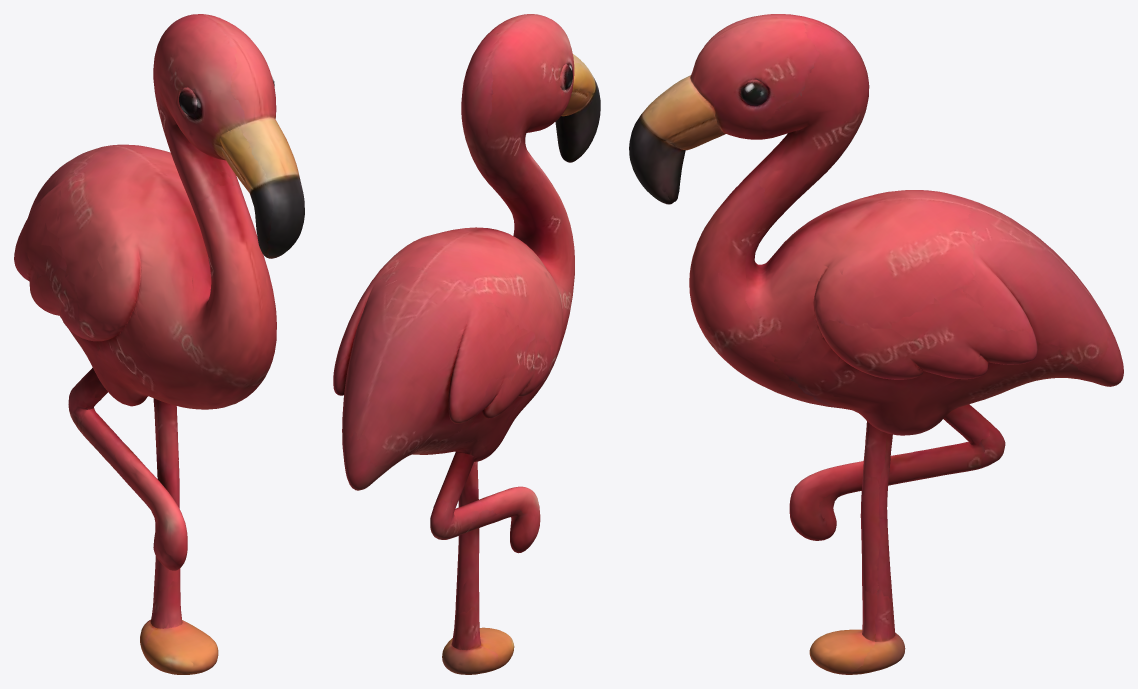
The model's file is flamingo_pbr.glb.
3 renders of one model, left to right at view 1: azimuth 30°, elevation 25°; view 2: azimuth 150°, elevation 25°; view 3: azimuth 270°, elevation 25°, orthographic. The views are drawn at different scales.
Parts seen in each view (by area): view 1: model.007; view 2: model.007; view 3: model.007.
Part boxes in pixels (bbox=[...]): model.007: bbox=[14, 14, 304, 674]; model.007: bbox=[333, 14, 600, 674]; model.007: bbox=[629, 14, 1123, 674].
Bounding box in the file's own units: 0.5231 × 1.93 × 1.34.
1 material, 1 textured.
